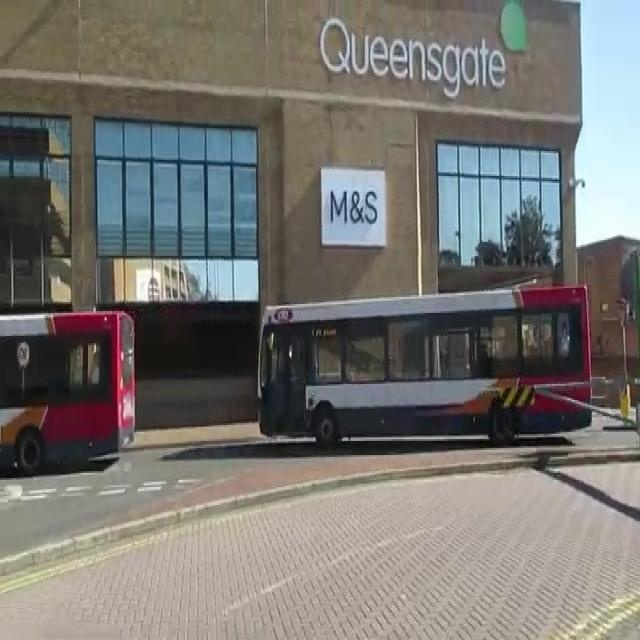Bus: (256, 283, 594, 449), (0, 300, 136, 474)
